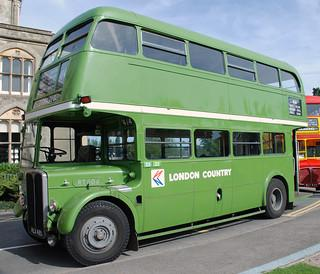bus: (25, 16, 308, 265)
